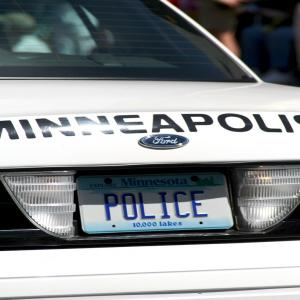Vehicle-registration-plate: (74, 172, 244, 242)
